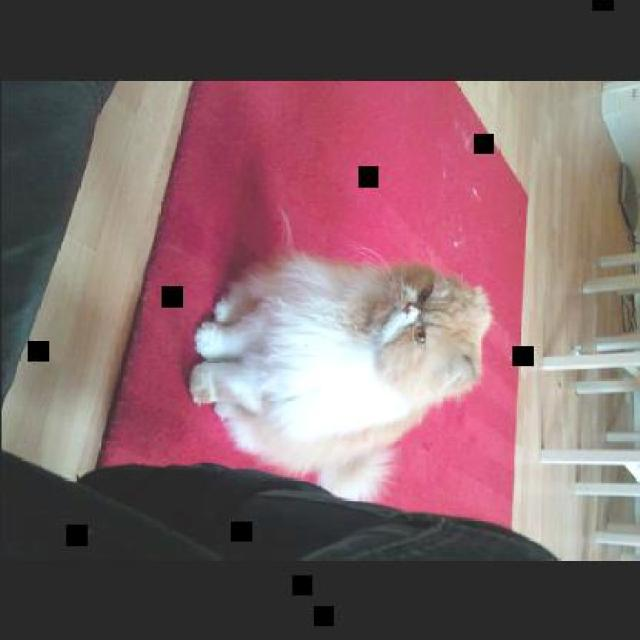unauthorized: (188, 246, 492, 503)
